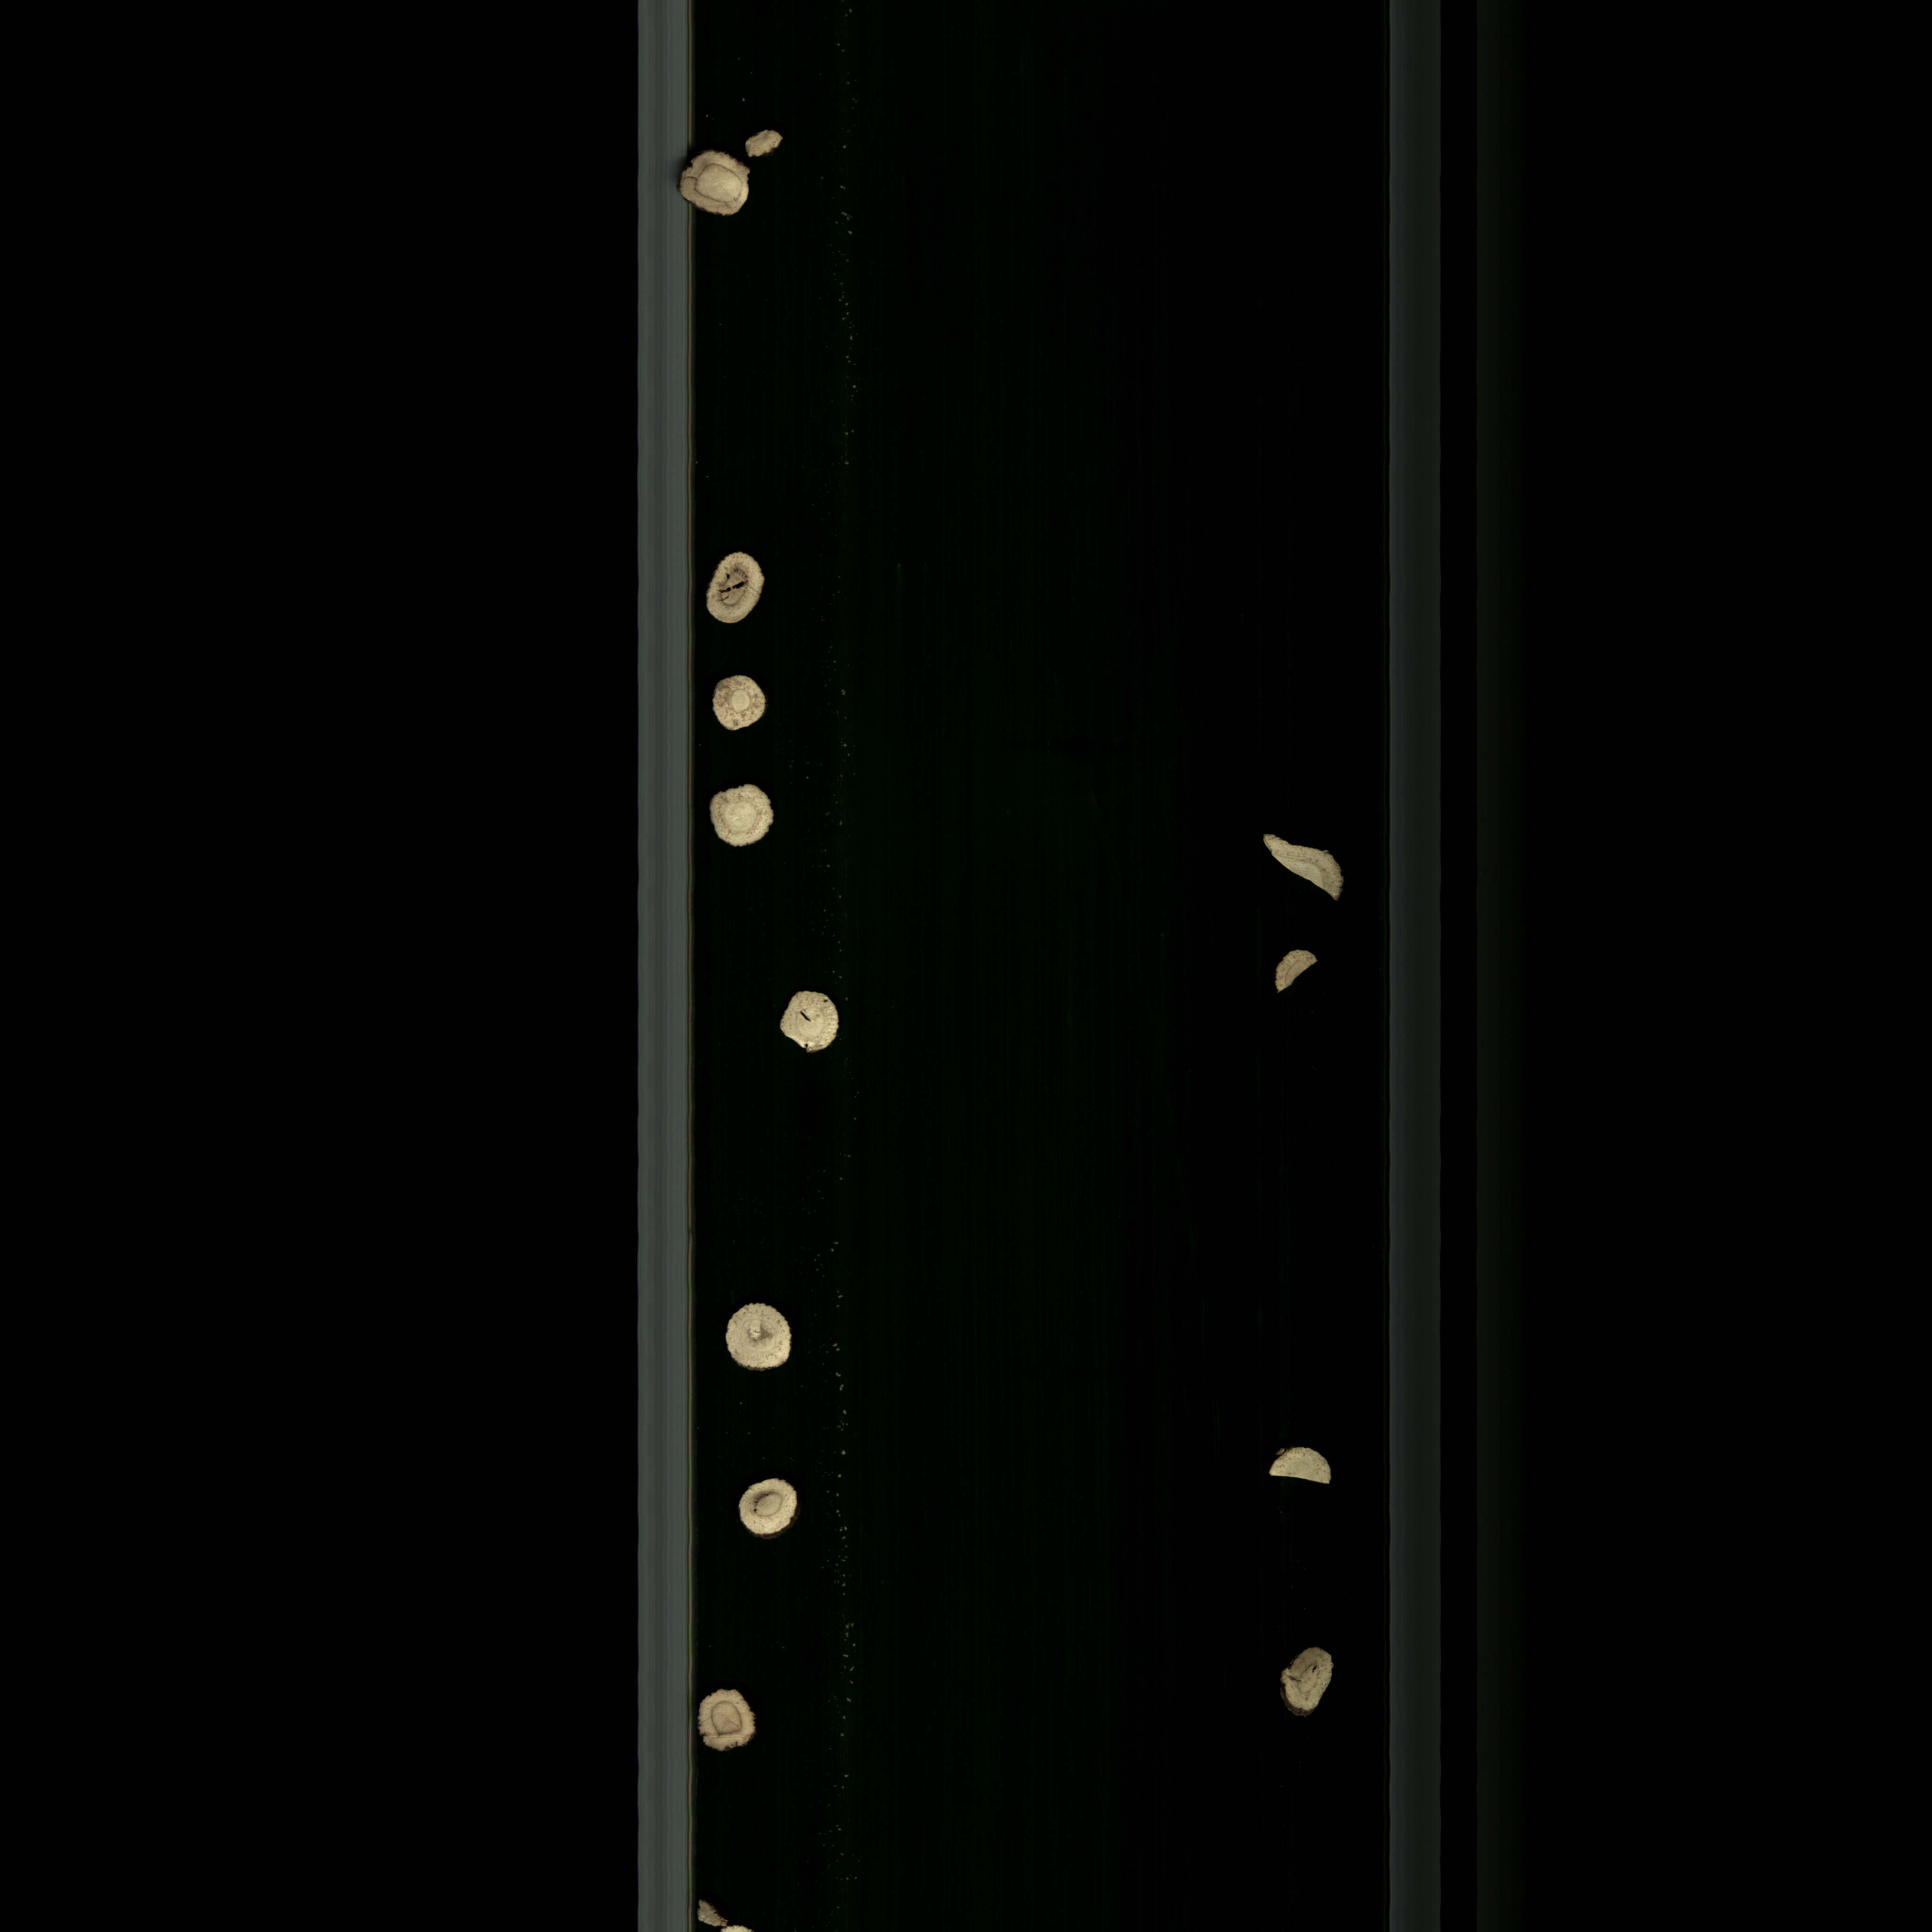debris: (1256, 824, 1359, 916), (1260, 1435, 1350, 1500)
dreg: (1258, 947, 1330, 996), (738, 126, 794, 163), (694, 1893, 729, 1928)
hole: (764, 982, 847, 1063), (1274, 1640, 1341, 1737)
moldy: (672, 143, 759, 232), (690, 1686, 770, 1762), (708, 543, 766, 640), (731, 1479, 812, 1545), (709, 672, 780, 736)
